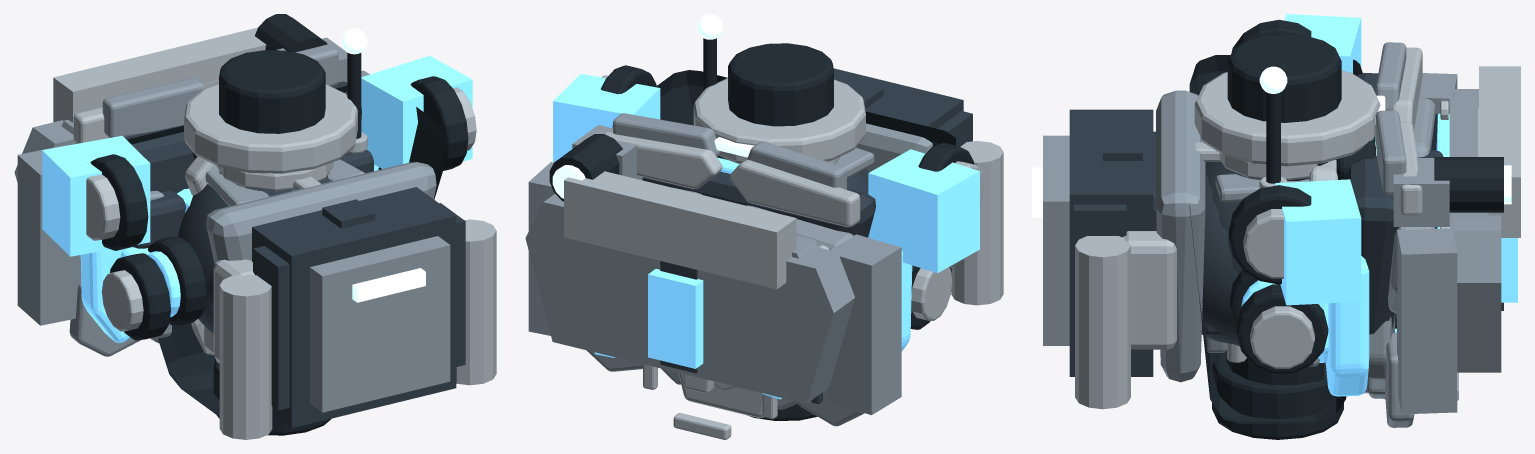
Rendered from zap-bot-modular-46.glb.
3 views of the same model, side by side, from view 1: azimuth 30°, elevation 25°; view 2: azimuth 150°, elevation 25°; view 3: azimuth 270°, elevation 25° (orthographic). The views are drawn at different scales.
Visible parts, largest first — view 1: ZAP_Torso, ZAP_Role_Engineer, ZAP_Role_Anchor, ZAP_Role_Assault, ZAP_Head, ZAP_Pelvis, ZAP_Role_Sniper, ZAP_Thigh, ZAP_Shoulder; view 2: ZAP_Role_Anchor, ZAP_Torso, ZAP_Role_Assault, ZAP_Role_Engineer, ZAP_Role_Sniper, ZAP_Head, ZAP_Pelvis; view 3: ZAP_Torso, ZAP_Role_Anchor, ZAP_Role_Engineer, ZAP_Head, ZAP_Role_Assault, ZAP_Role_Sniper, ZAP_Pelvis, ZAP_Thigh, ZAP_Shin, ZAP_Shoulder.
Boxes of the visible parts, x1=… form: ZAP_Torso: x1=69, y1=45, x2=476, y2=415; ZAP_Role_Engineer: x1=219, y1=187, x2=496, y2=439; ZAP_Role_Anchor: x1=14, y1=27, x2=465, y2=410; ZAP_Role_Assault: x1=42, y1=55, x2=472, y2=256; ZAP_Head: x1=147, y1=28, x2=367, y2=435; ZAP_Pelvis: x1=101, y1=150, x2=373, y2=340; ZAP_Role_Sniper: x1=255, y1=14, x2=375, y2=228; ZAP_Thigh: x1=216, y1=162, x2=333, y2=190; ZAP_Shoulder: x1=177, y1=156, x2=217, y2=212; ZAP_Role_Anchor: x1=525, y1=111, x2=972, y2=415; ZAP_Torso: x1=586, y1=43, x2=983, y2=439; ZAP_Role_Assault: x1=553, y1=74, x2=979, y2=373; ZAP_Role_Engineer: x1=833, y1=68, x2=1003, y2=305; ZAP_Role_Sniper: x1=549, y1=80, x2=883, y2=201; ZAP_Head: x1=661, y1=14, x2=874, y2=420; ZAP_Pelvis: x1=714, y1=265, x2=952, y2=390; ZAP_Torso: x1=1122, y1=19, x2=1458, y2=427; ZAP_Role_Anchor: x1=1073, y1=66, x2=1520, y2=414; ZAP_Role_Engineer: x1=1032, y1=109, x2=1153, y2=409; ZAP_Head: x1=1195, y1=66, x2=1394, y2=439; ZAP_Role_Assault: x1=1275, y1=14, x2=1503, y2=310; ZAP_Role_Sniper: x1=1102, y1=135, x2=1511, y2=226; ZAP_Pelvis: x1=1213, y1=268, x2=1328, y2=373; ZAP_Thigh: x1=1219, y1=153, x2=1396, y2=384; ZAP_Shin: x1=1206, y1=135, x2=1376, y2=379; ZAP_Shoulder: x1=1309, y1=160, x2=1338, y2=181.
Bounding box in the file's own units: 0.88 × 0.7625 × 0.8745.
